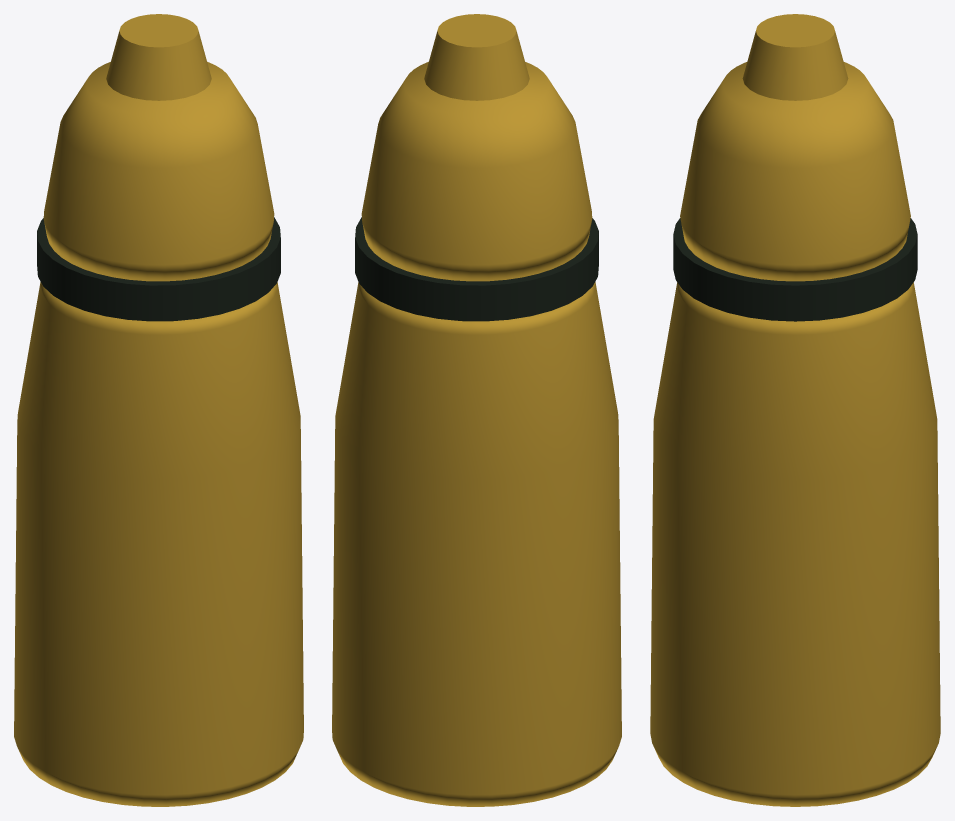
The model's file is shaker.glb.
3 views of the same model, side by side, from view 1: azimuth 30°, elevation 25°; view 2: azimuth 150°, elevation 25°; view 3: azimuth 270°, elevation 25° (orthographic).
Parts seen in each view (by area): view 1: body, cap, collar, cap_knob; view 2: body, cap, collar, cap_knob; view 3: body, cap, collar, cap_knob.
Part boxes in pixels (x1,y1,x2,y2): body: (14,282,303,806); cap: (43,62,274,281); collar: (37,217,280,321); cap_knob: (106,14,211,100); body: (332,282,621,806); cap: (361,62,592,281); collar: (355,217,598,321); cap_knob: (424,14,529,100); body: (650,282,940,806); cap: (680,62,910,281); collar: (673,218,917,321); cap_knob: (742,14,848,100).
Bounding box in the file's own units: 0.088 × 0.24 × 0.088.
